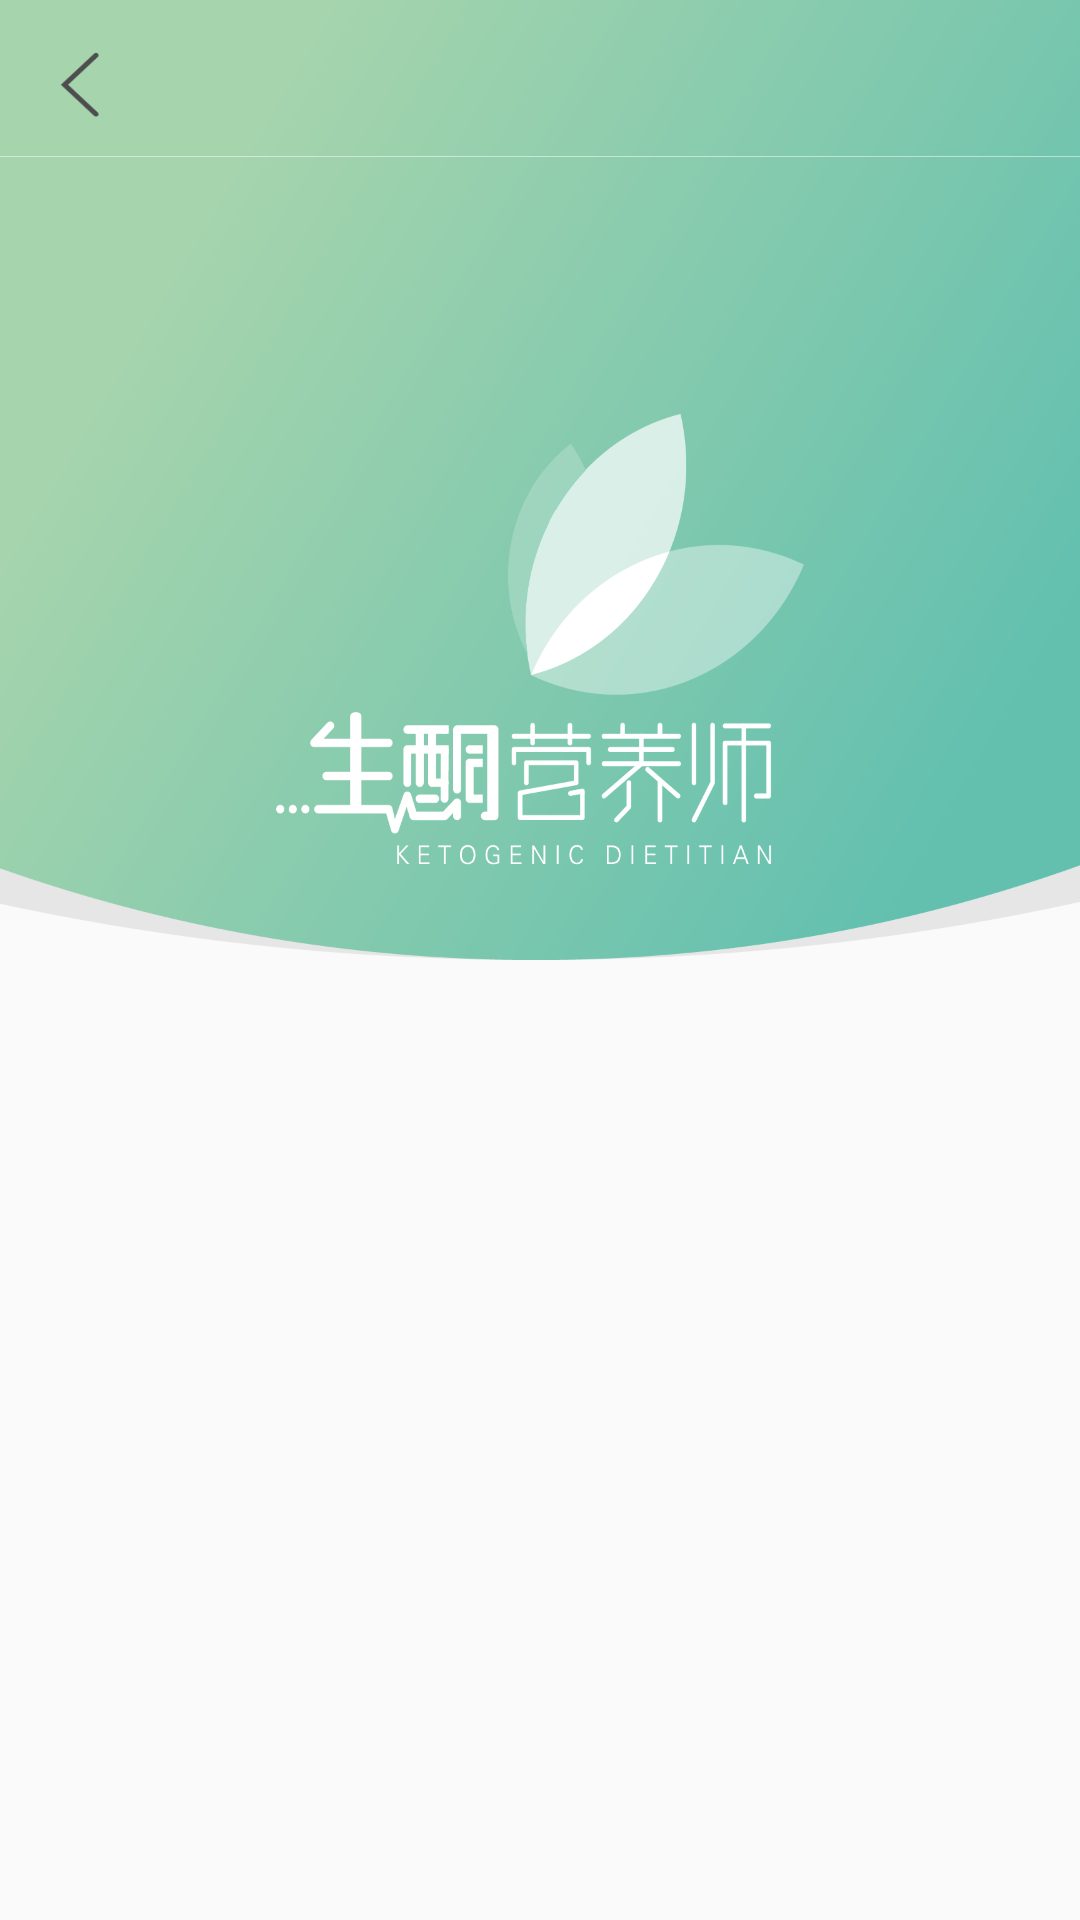

Named icons in this screenshot (1080px x 1920px) and their bounding boxes, (x1, y1, x2, y2):
back arrow: (61, 53, 99, 117)
